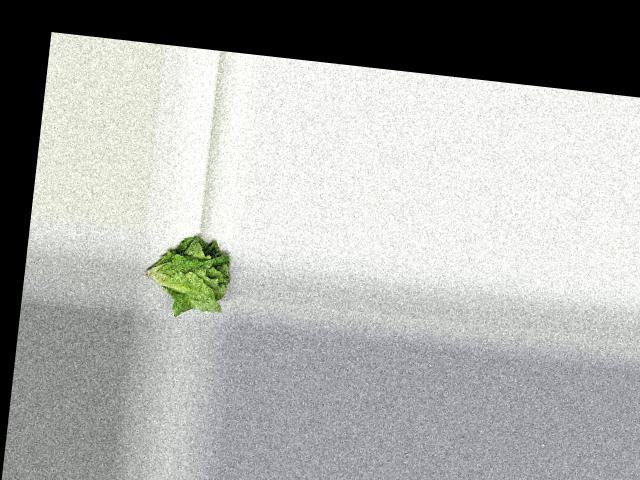lettuce: (138, 231, 239, 314)
